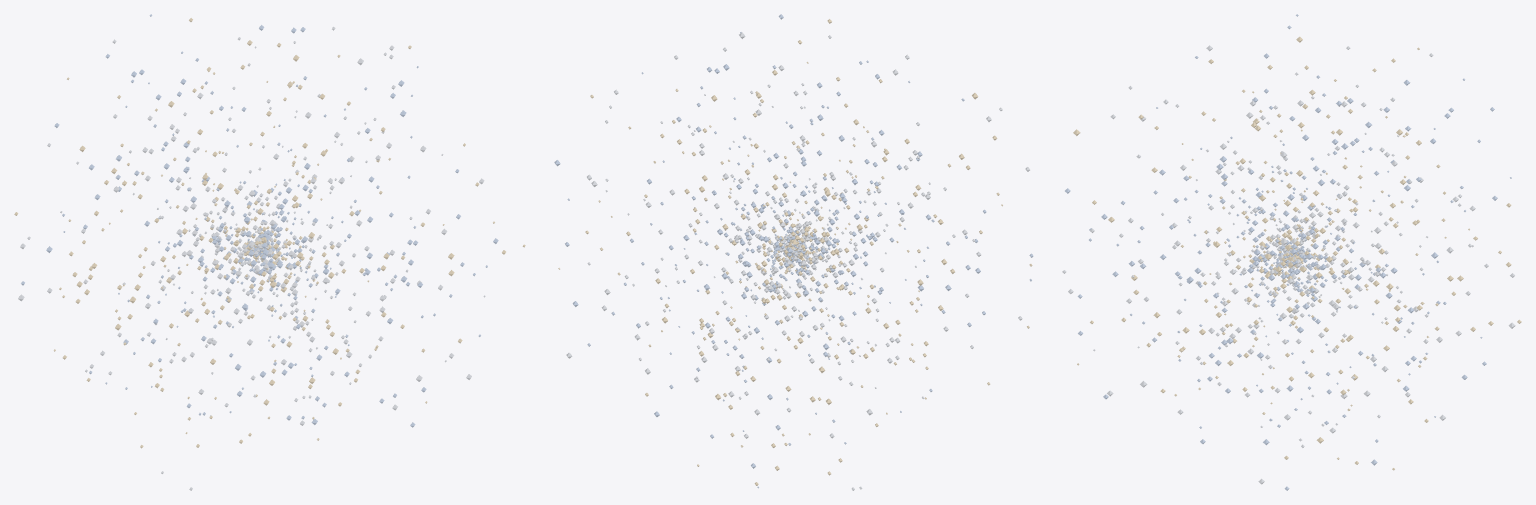
The picture shows the model from 3 angles, left to right: view 1: azimuth 30°, elevation 25°; view 2: azimuth 150°, elevation 25°; view 3: azimuth 270°, elevation 25°; orthographic projection. The views are drawn at different scales.
Bounding box in the file's own units: 5 × 4.96 × 4.71.
